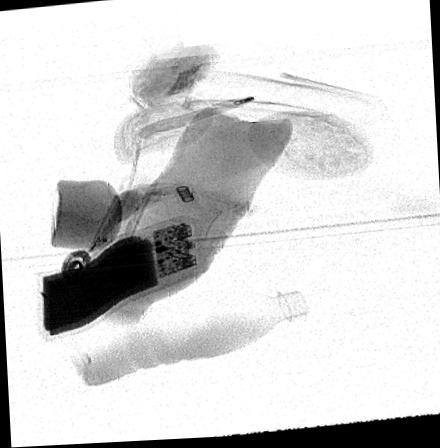Powerbank: (38, 217, 200, 341)
